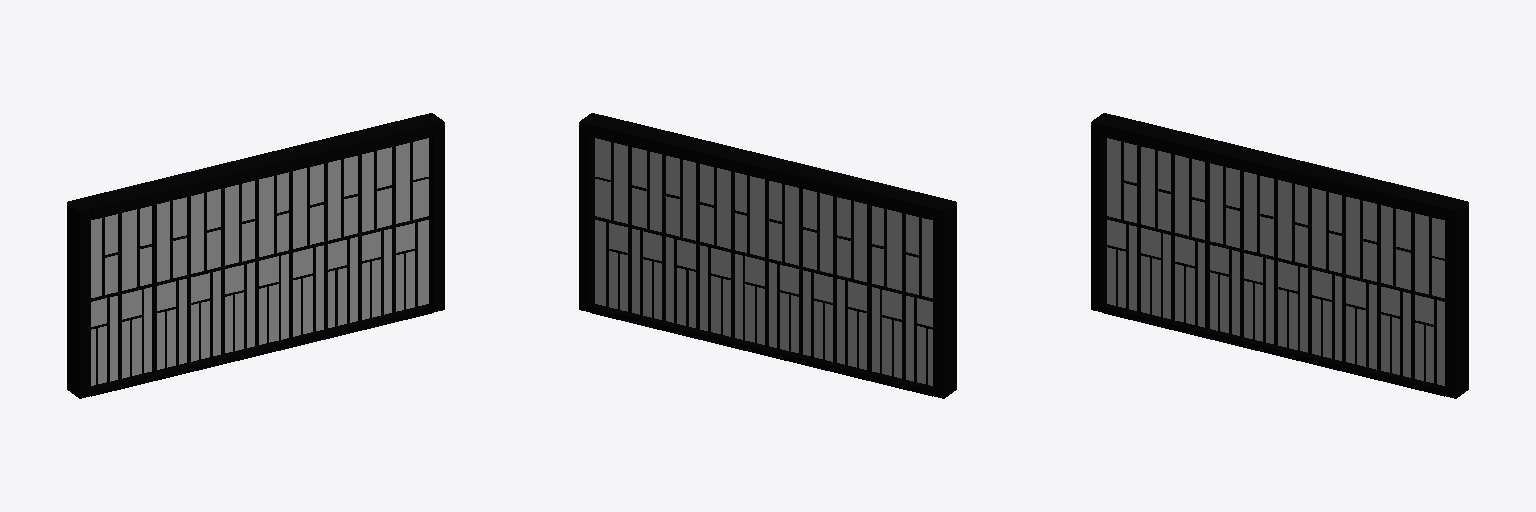
File: wall_window.obj
The picture shows the model from 3 angles: view 1: azimuth 30°, elevation 25°; view 2: azimuth 150°, elevation 25°; view 3: azimuth 330°, elevation 25°; orthographic projection.
Parts seen in each view (by area): view 1: Cube.064, Cube.001, Cube.004, Cube, Cube.003, Cube.002, Cube.012, Cube.011, Cube.009, Cube.007, Cube.006, Cube.010 (+3 smaller); view 2: Cube.064, Cube.001, Cube.004, Cube, Cube.003, Cube.002, Cube.012, Cube.011, Cube.009, Cube.007, Cube.006, Cube.010 (+3 smaller); view 3: Cube.064, Cube.001, Cube.003, Cube, Cube.004, Cube.002, Cube.011, Cube.013, Cube.007, Cube.012, Cube.008, Cube.009 (+3 smaller).
Boxes of the visible parts, box(x1,y1,x2,y2) form: Cube.064: box(91, 138, 428, 385); Cube.001: box(79, 115, 433, 219); Cube.004: box(67, 199, 90, 398); Cube: box(91, 304, 433, 396); Cube.003: box(421, 113, 444, 311); Cube.002: box(91, 216, 429, 301); Cube.012: box(152, 205, 156, 371); Cube.011: box(187, 196, 190, 363); Cube.009: box(255, 180, 258, 346); Cube.007: box(324, 163, 327, 329); Cube.006: box(358, 155, 361, 321); Cube.010: box(221, 188, 224, 354); Cube.064: box(595, 138, 932, 385); Cube.001: box(590, 115, 944, 219); Cube.004: box(933, 199, 956, 398); Cube: box(590, 304, 932, 396); Cube.003: box(579, 113, 602, 311); Cube.002: box(594, 216, 932, 301); Cube.012: box(867, 205, 871, 371); Cube.011: box(833, 196, 836, 363); Cube.009: box(765, 180, 768, 346); Cube.007: box(696, 163, 699, 329); Cube.006: box(662, 155, 665, 321); Cube.010: box(799, 188, 802, 354); Cube.064: box(1107, 138, 1444, 385); Cube.001: box(1102, 115, 1456, 219); Cube.003: box(1445, 199, 1468, 398); Cube: box(1102, 304, 1444, 396); Cube.004: box(1091, 113, 1114, 311); Cube.002: box(1106, 216, 1444, 301); Cube.011: box(1205, 162, 1209, 329); Cube.013: box(1137, 146, 1140, 312); Cube.007: box(1342, 196, 1345, 362); Cube.012: box(1171, 154, 1174, 320); Cube.008: box(1308, 187, 1311, 354); Cube.009: box(1274, 179, 1277, 345).
Bounding box in the file's own units: 6.41 × 3.15 × 0.4.